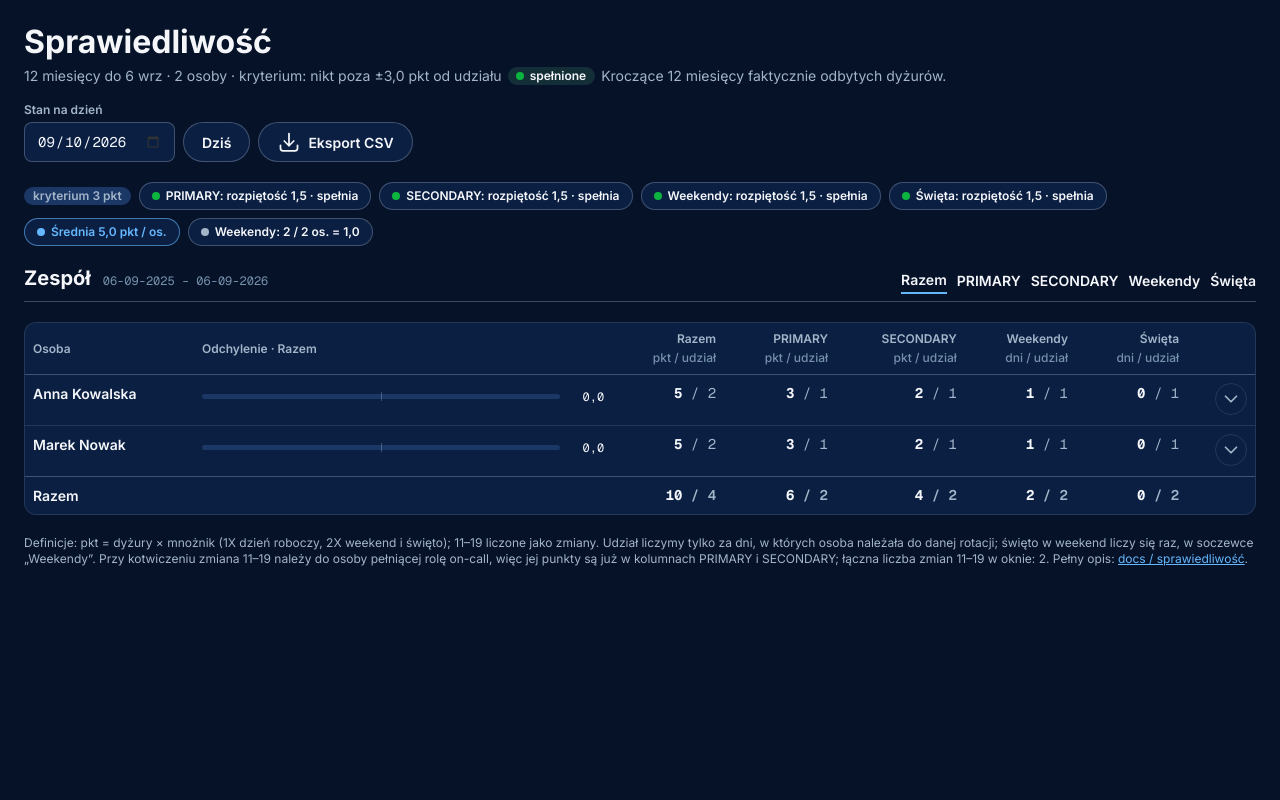
Test case: FairnessPanel lens links › unfolds a row into the months and the reasons
Expected: the column heading "Anna Kowalska" is shown, [25, 375, 194, 426]
Click the button named "Rozwiń: Anna Kowalska" at (1231, 399), box [1215, 383, 1247, 415]
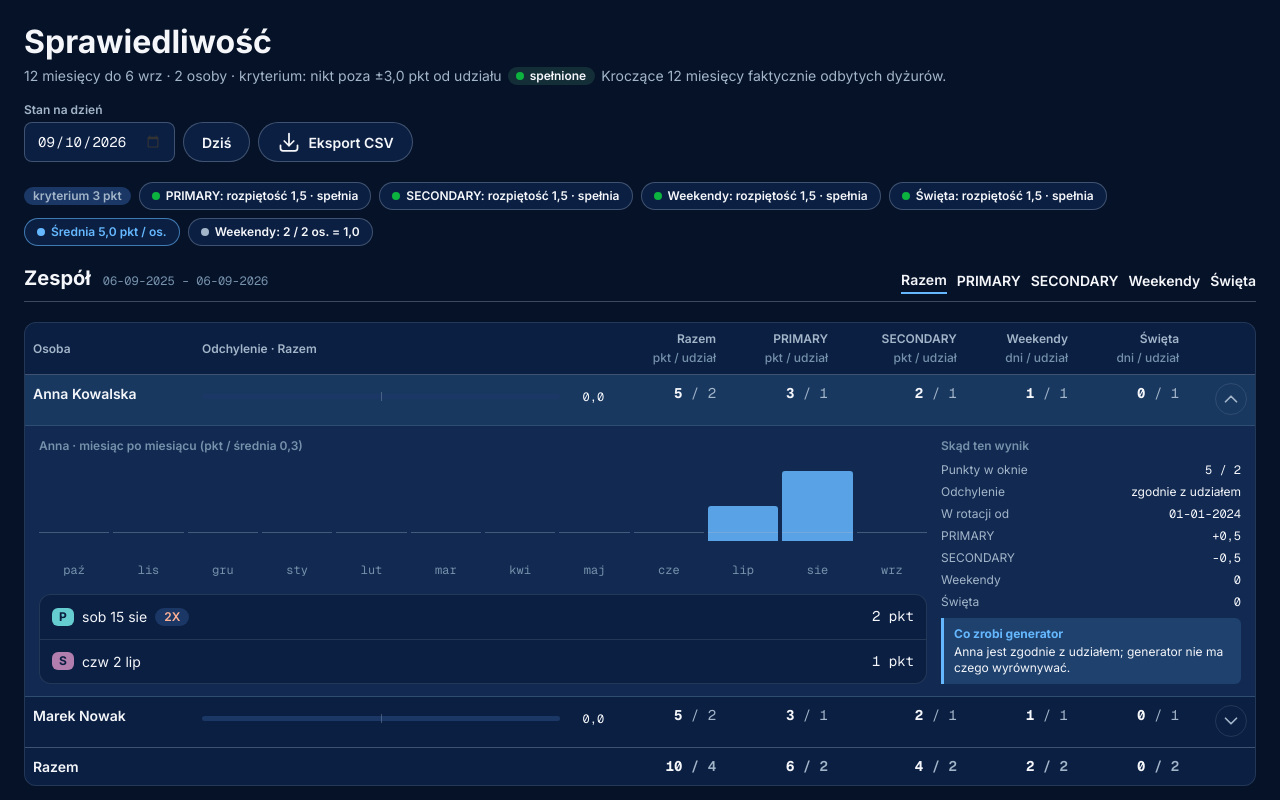
Result: the picture named "Punkty miesiąc po miesiącu: paź 0, lis 0, gru 0, sty 0, lut" is shown at [708, 471, 853, 541]
Result: the text "Co zrobi generator" is shown at [954, 626, 1063, 641]
Result: the text "Anna jest zgodnie z udziałem" is shown at [954, 644, 1223, 675]
Click the button named "Zwiń: Anna Kowalska" at (1231, 399), box [1215, 383, 1247, 415]
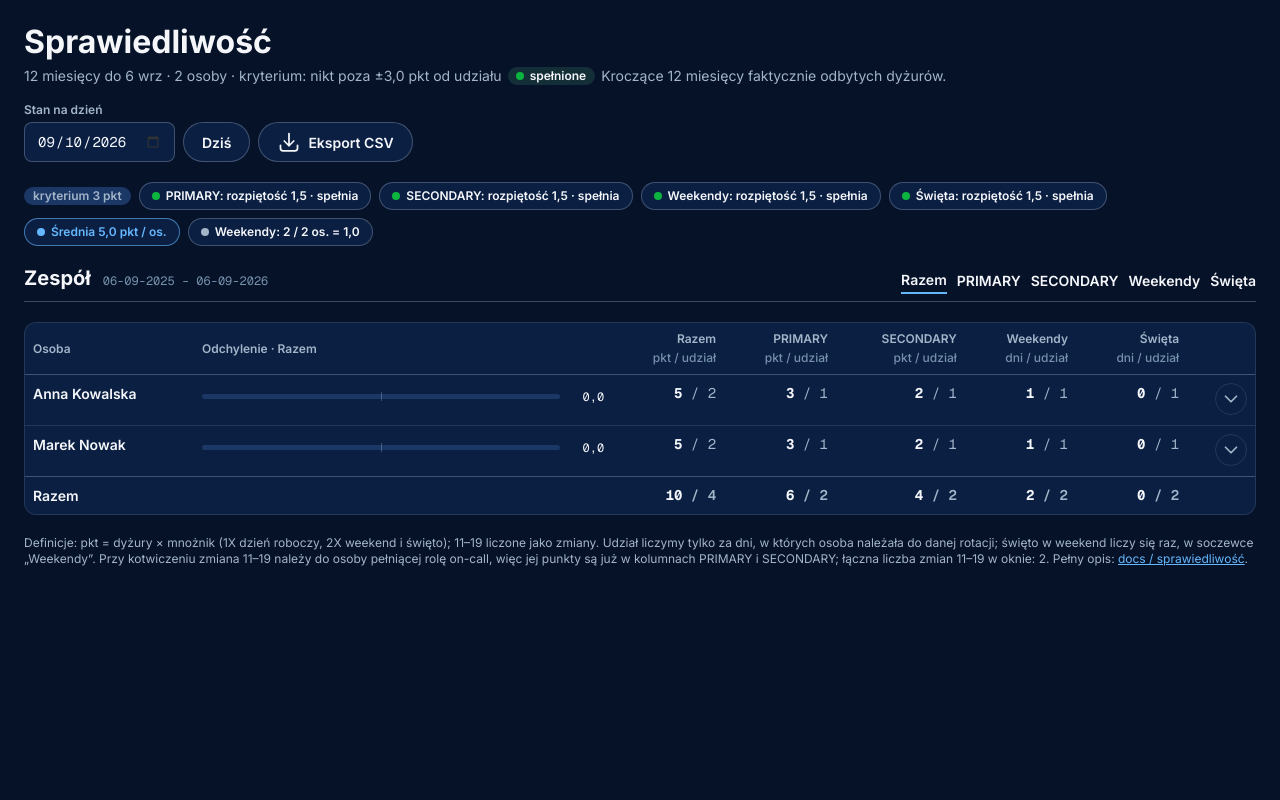
Result: the text "Co zrobi generator" is gone
